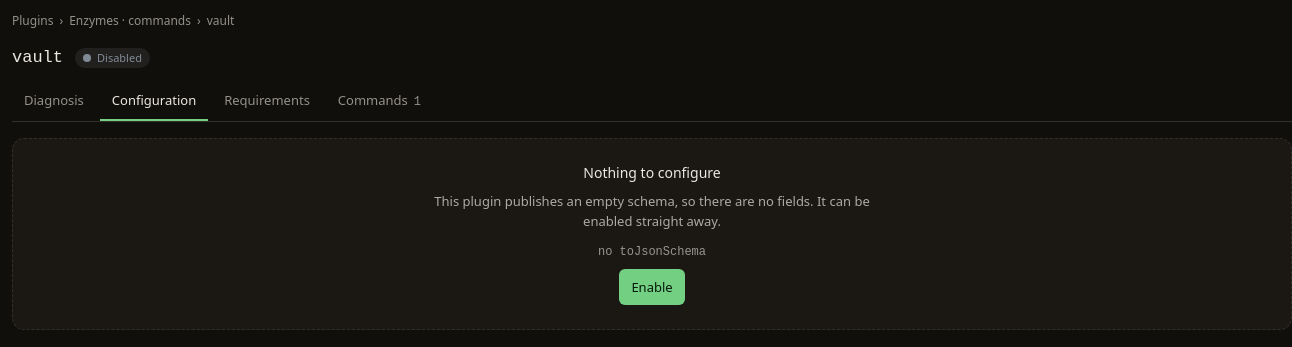
Test: the generated settings form › renders the empty-schema state and the raw reason, with no field and no alert
This screenshot has width=1292, height=347.
Expected: the text "no toJsonSchema" is shown, [598,245,706,259]
Expected: the text "Nothing to configure" is shown, [583,163,721,182]
Click the button "Enable" at x=652, y=287, box [619,269,685,305]
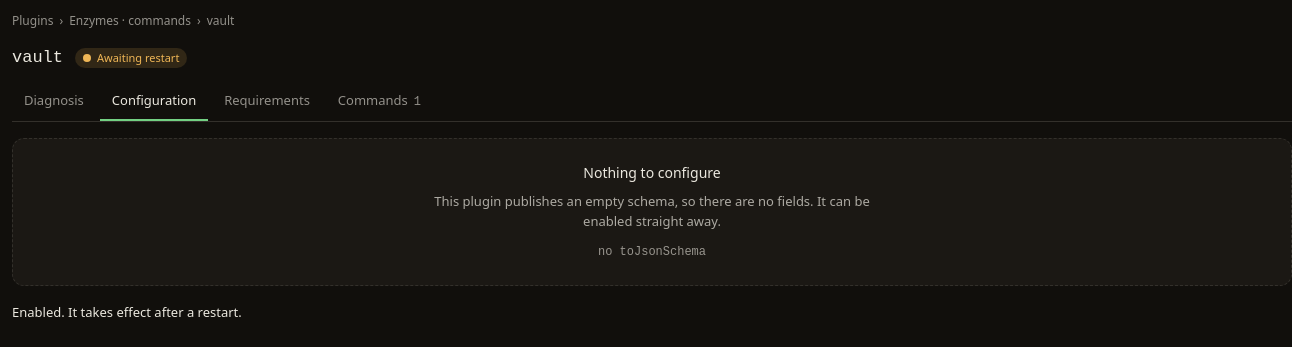
Now the text "Enabled. It takes effect after a restart." is shown, box [12,303,242,321]
